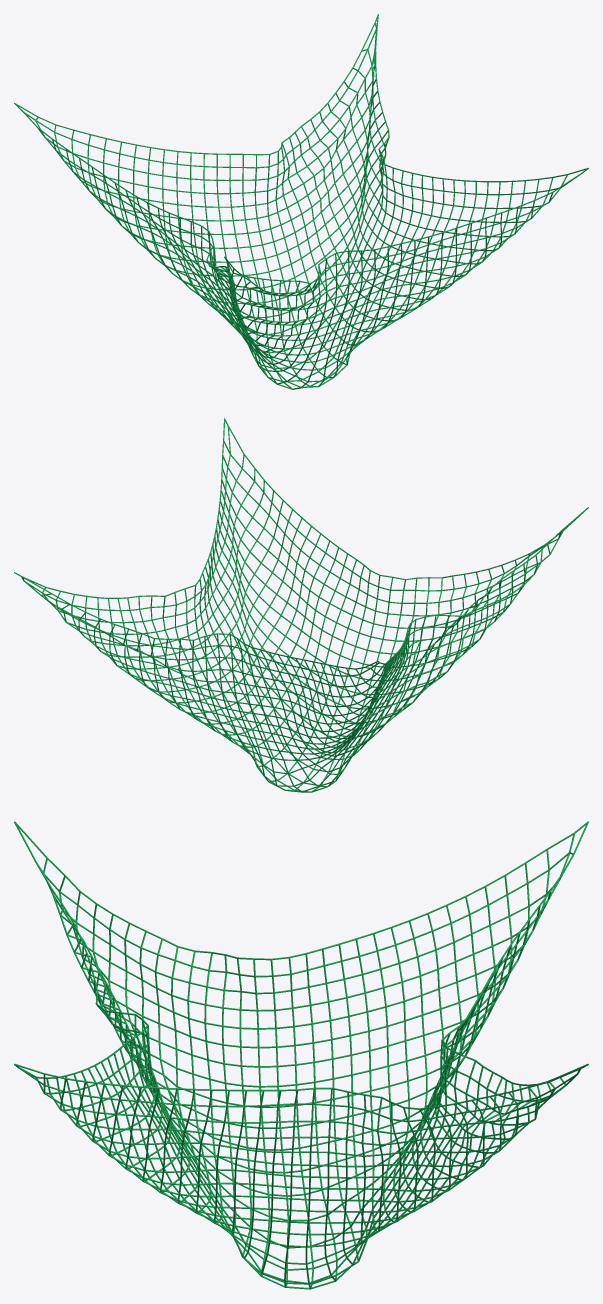
File: FishingNet.glb
The picture shows the model from 3 angles, top to bottom: view 1: azimuth 30°, elevation 25°; view 2: azimuth 150°, elevation 25°; view 3: azimuth 270°, elevation 25°; orthographic projection. The views are drawn at different scales.
Bounding box in the file's own units: 401 × 262 × 401.
